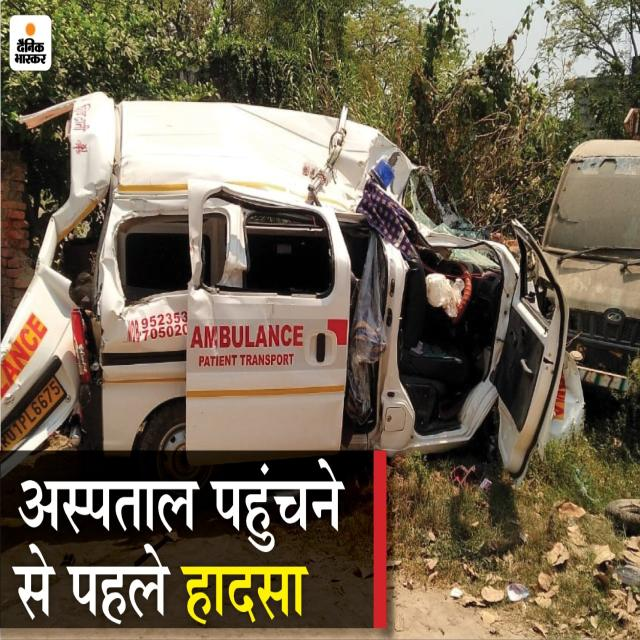accident: (0, 92, 582, 480)
